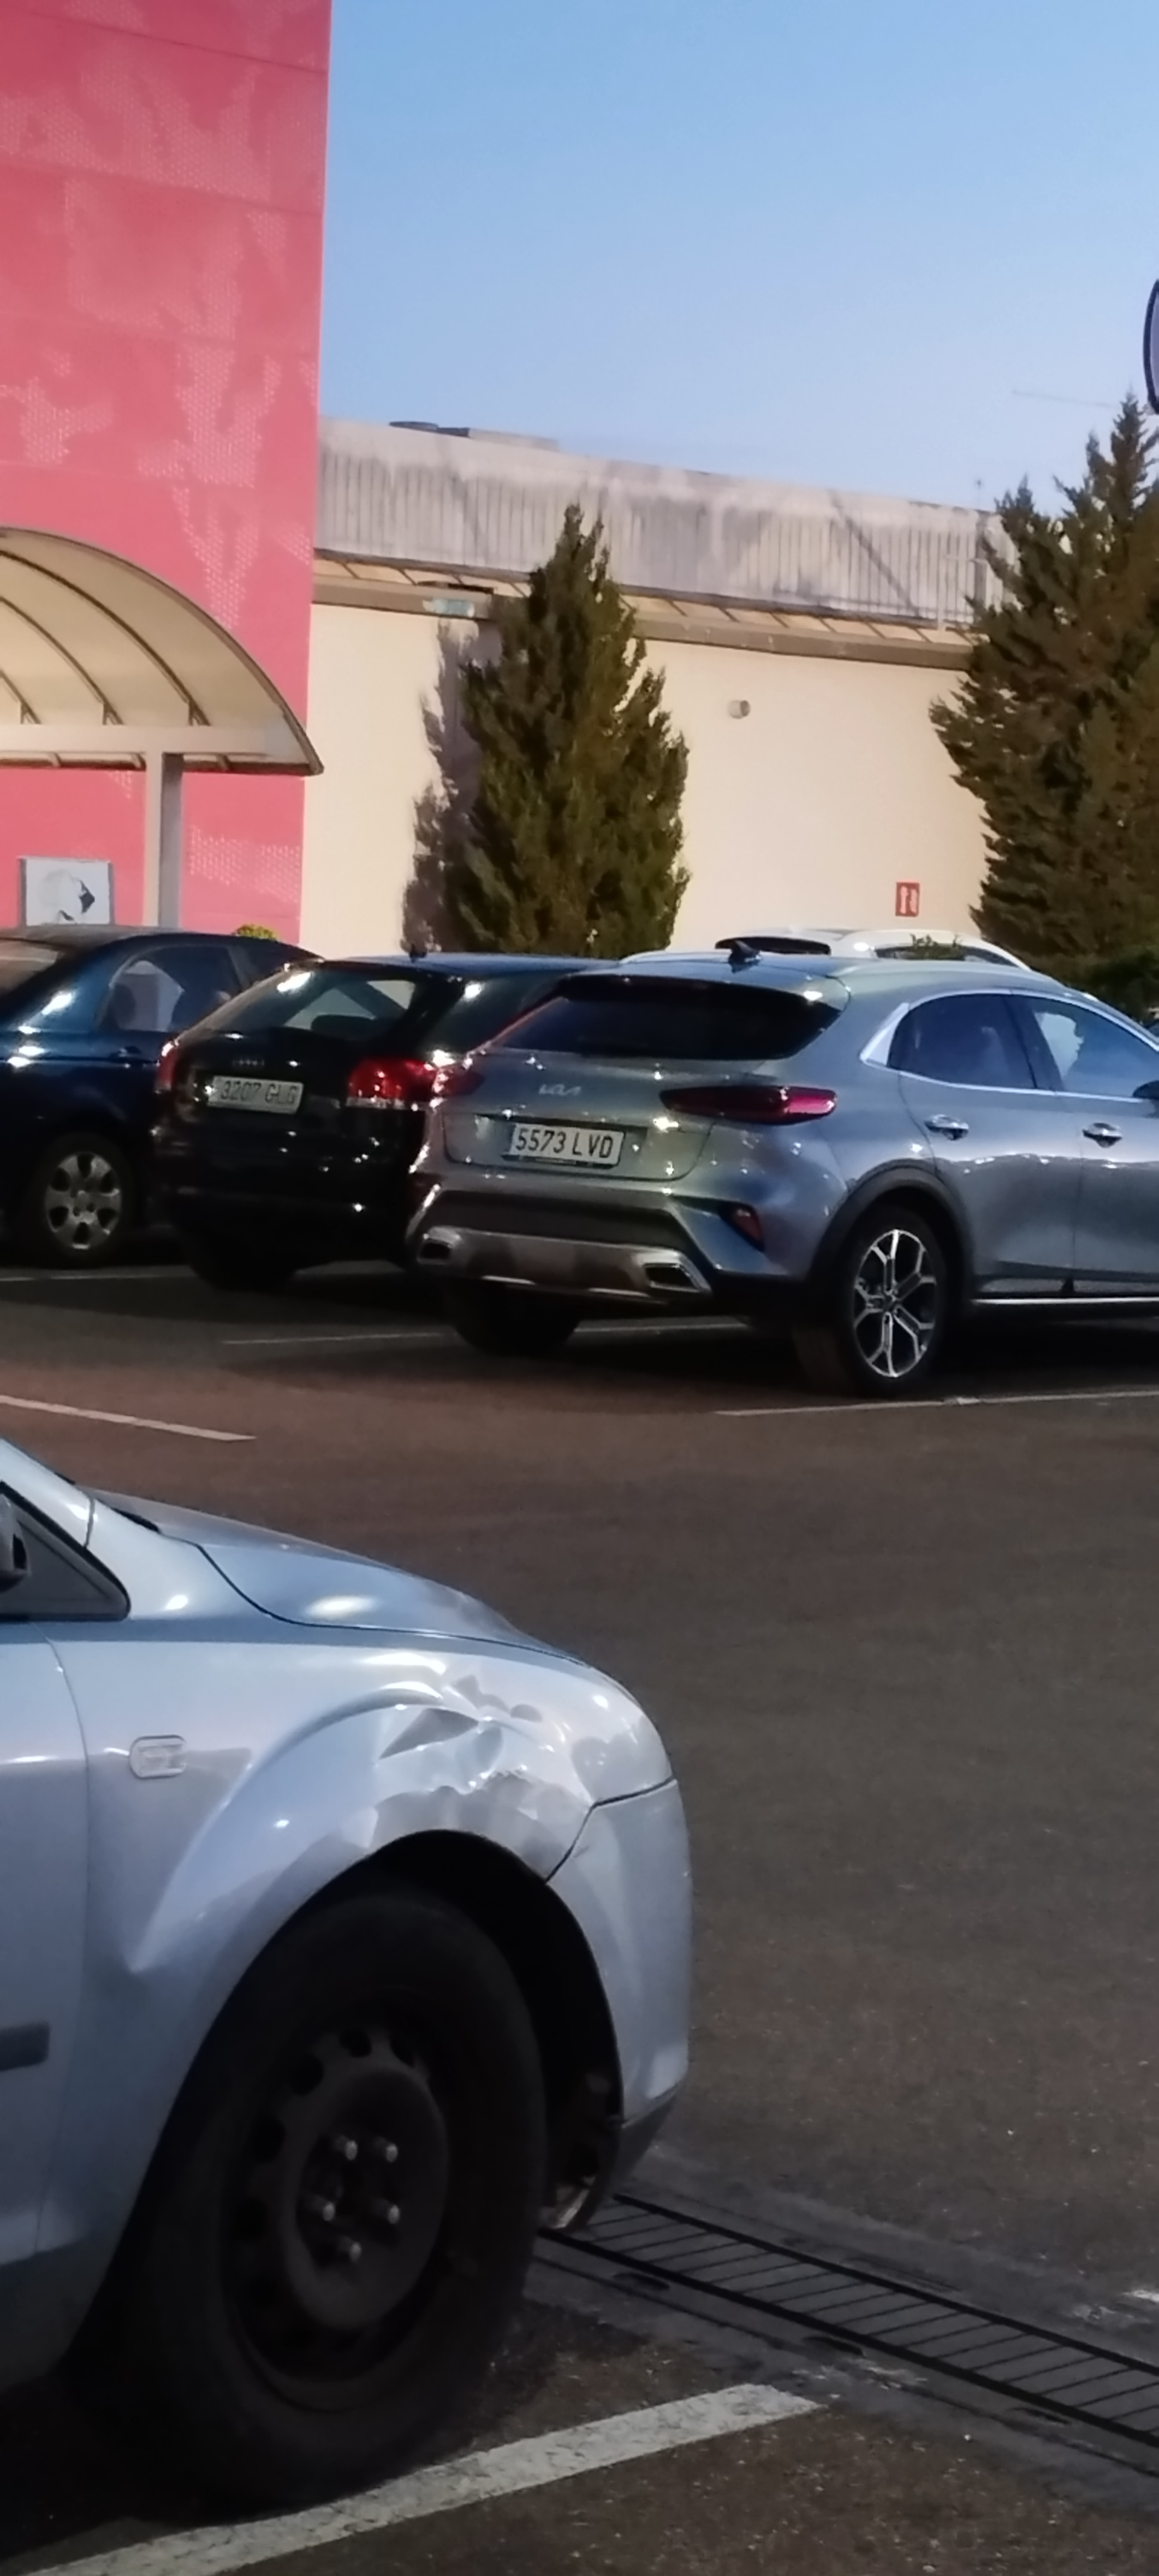Car: (412, 950, 1158, 1401), (145, 953, 468, 1292)
Plate: (507, 1119, 622, 1159), (209, 1071, 297, 1108)
